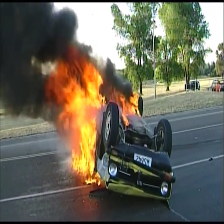fire_h: (45, 39, 105, 174), (107, 83, 142, 126)
fire_l: (84, 173, 100, 186)
